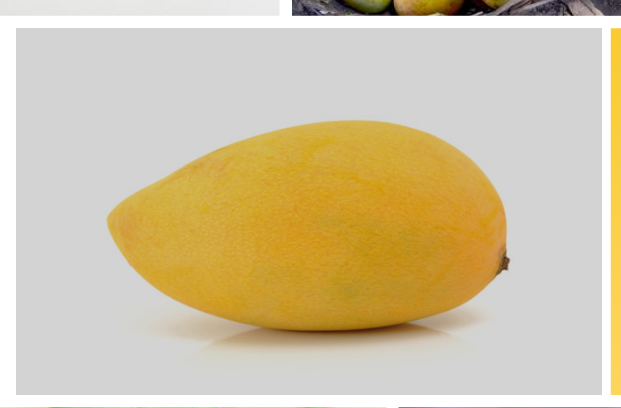mango: (102, 118, 512, 335)
